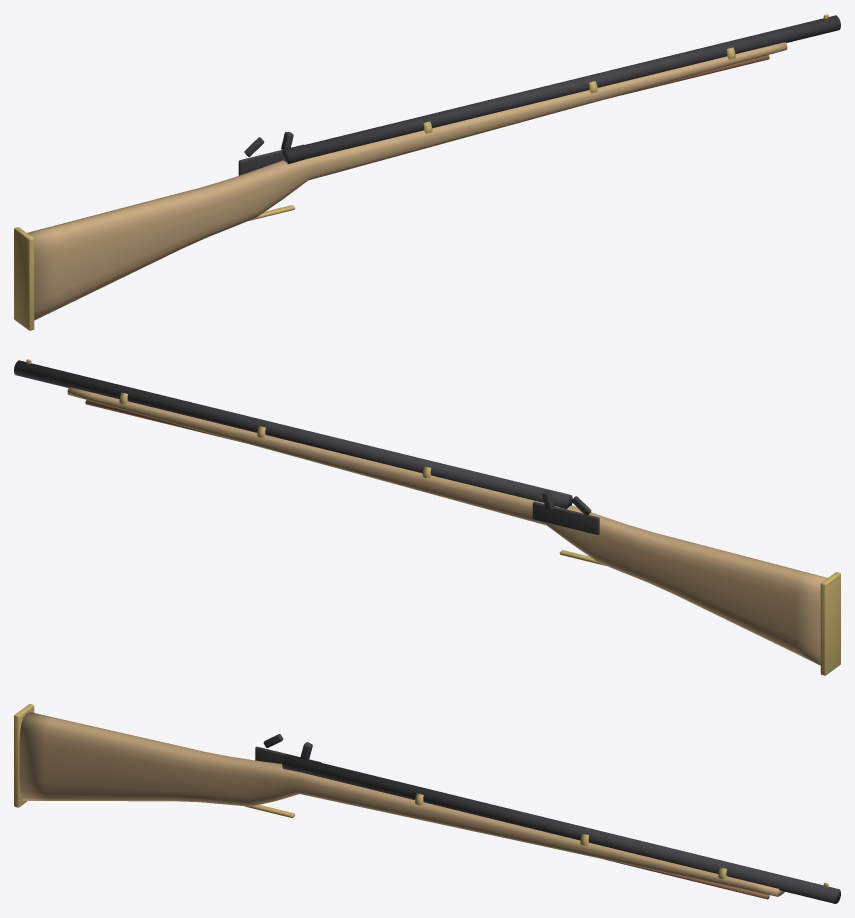
The model's file is SM_Musket.glb.
3 renders of one model, top to bottom at view 1: azimuth 30°, elevation 25°; view 2: azimuth 150°, elevation 25°; view 3: azimuth 330°, elevation 25°, orthographic.
Visible parts, largest first — view 1: SM_Musket; view 2: SM_Musket; view 3: SM_Musket.
Part boxes in pixels (left/top/right/bottom): SM_Musket: left=14, top=14, right=840, bottom=330; SM_Musket: left=14, top=359, right=840, bottom=675; SM_Musket: left=14, top=704, right=840, bottom=903.
Bounding box in the file's own units: 1.48 × 0.209 × 0.061.
